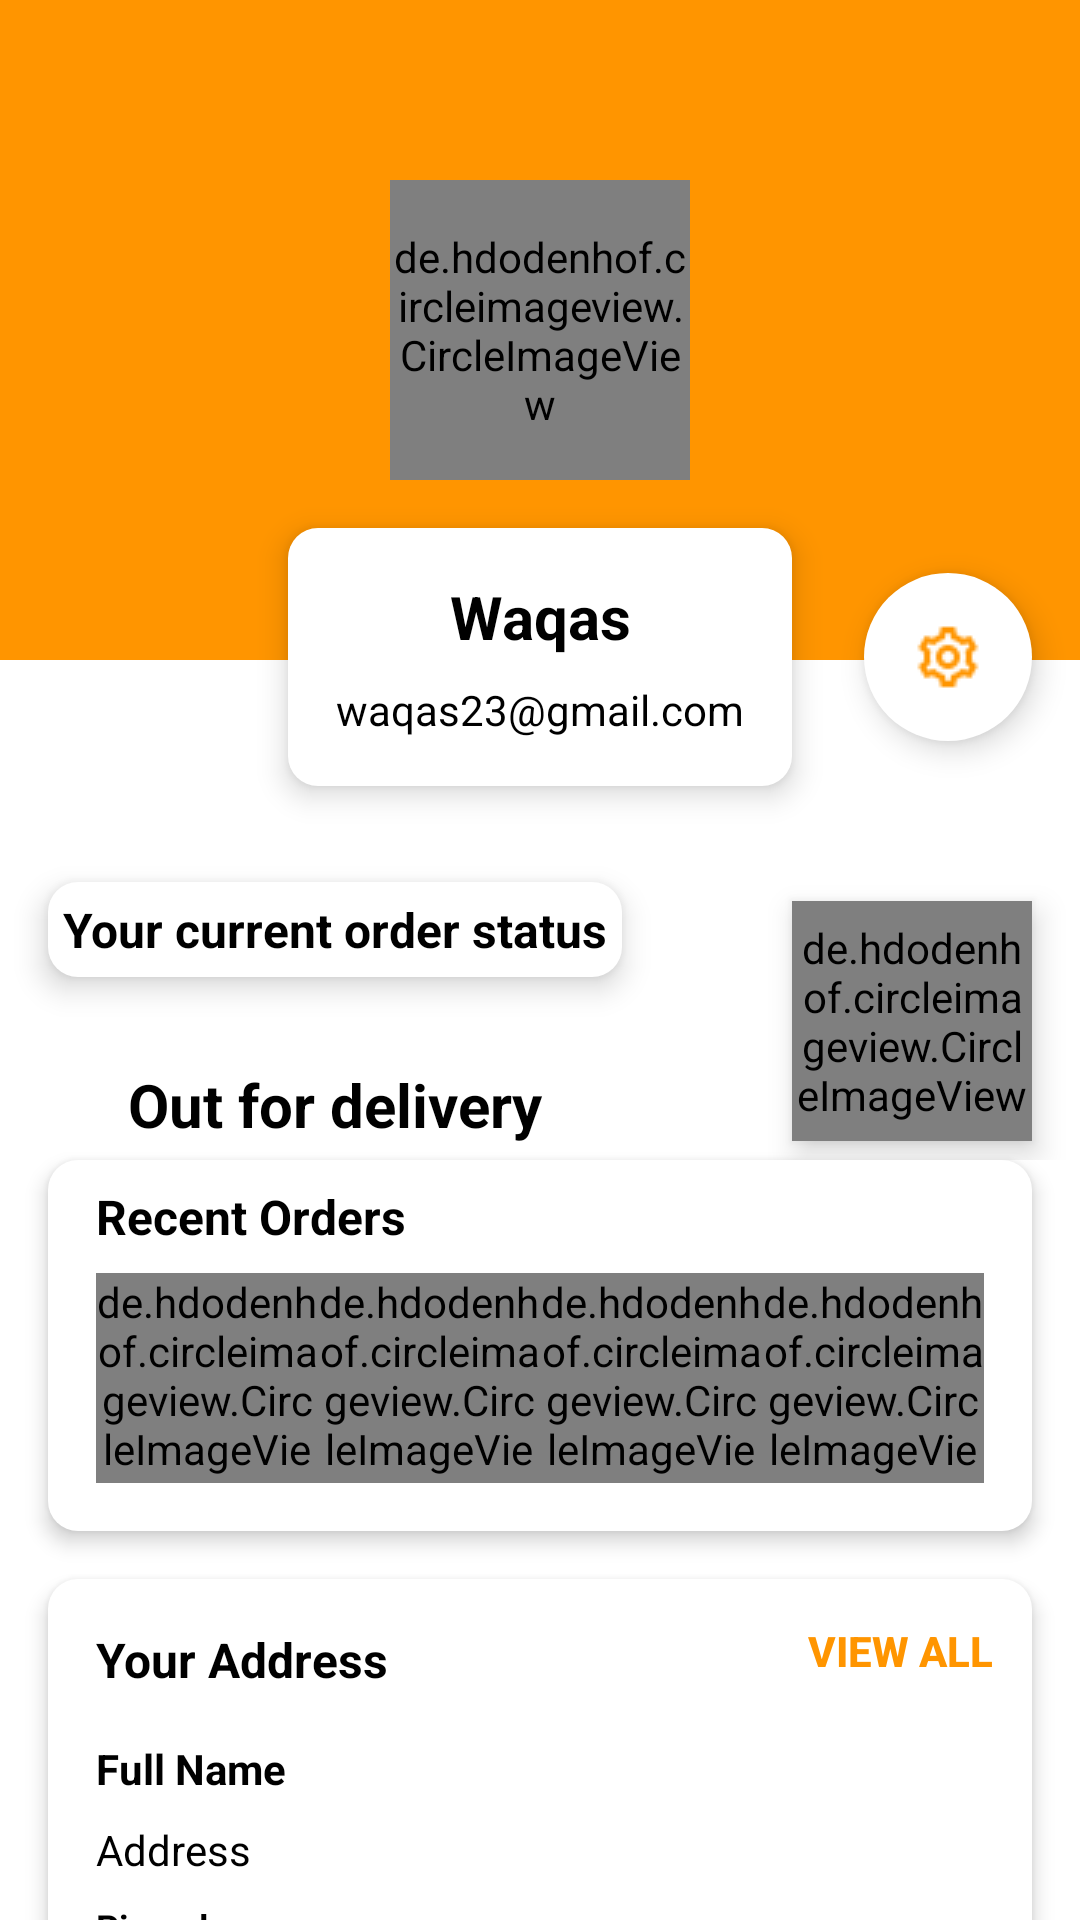

Icons on this 1080*1920 Android screen, each with the point to tap as (x=x, y=y):
settingicon: (x=948, y=657)
